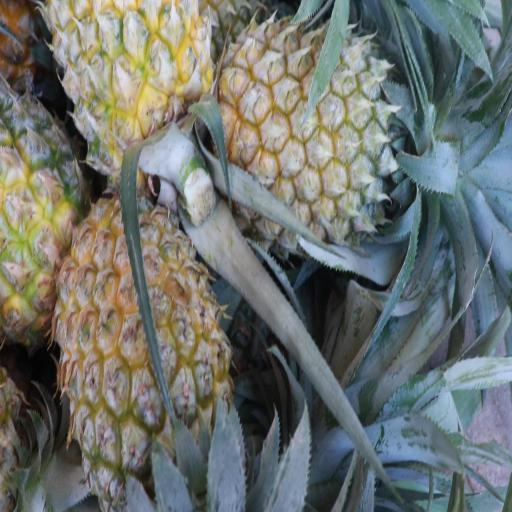------------------------------: (0, 72, 95, 354)
Pineapple - v8 v1: (46, 188, 243, 512), (208, 11, 414, 260), (35, 0, 222, 243)
